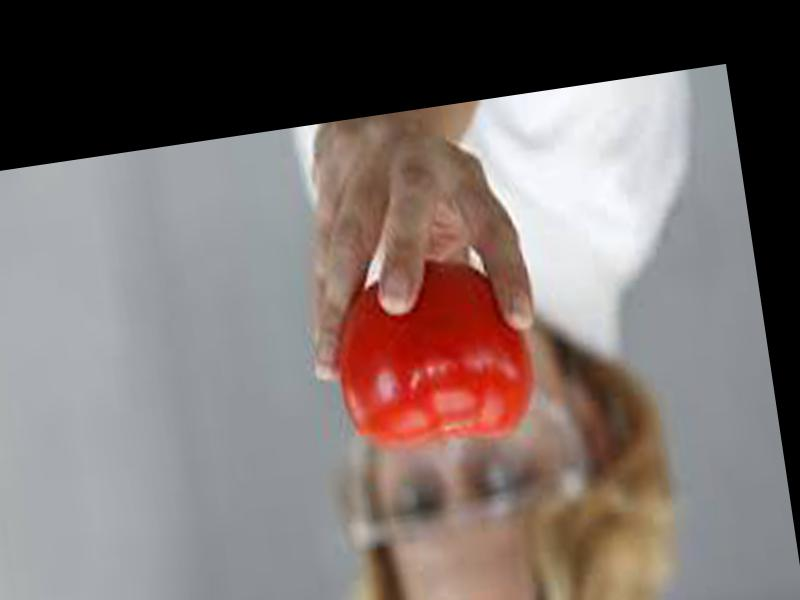Tomato: (327, 252, 545, 454)
